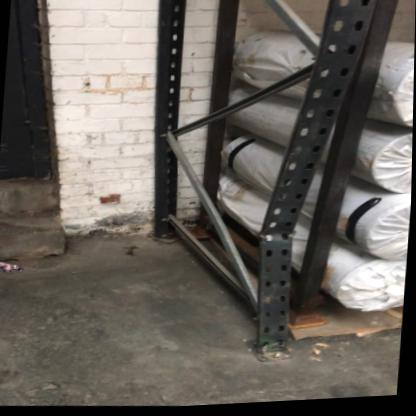vertical_damage: (245, 156, 324, 275)
